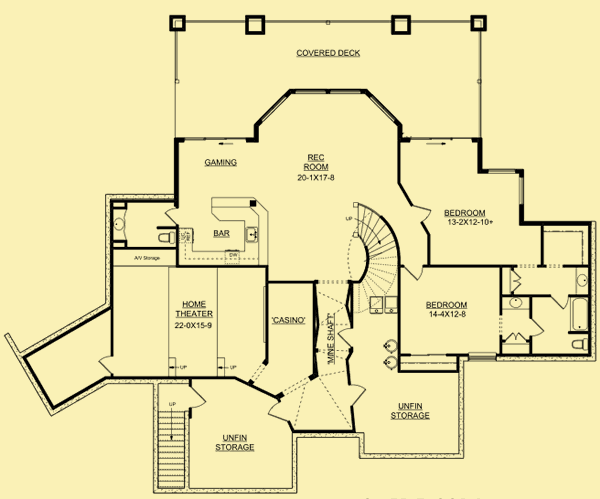door: (267, 402, 289, 424), (350, 379, 367, 406), (409, 204, 432, 223), (401, 265, 426, 281), (190, 386, 207, 408), (97, 353, 114, 374), (529, 317, 545, 339), (502, 332, 528, 344), (509, 270, 522, 292), (162, 206, 177, 225)
large_sink: (156, 228, 177, 245), (569, 336, 591, 351)
small_sink: (110, 206, 128, 240), (502, 294, 531, 310), (575, 266, 591, 294)
stairs: (345, 201, 398, 312), (152, 375, 192, 491)
tub: (570, 296, 591, 331)
windows: (294, 87, 364, 93), (486, 167, 517, 175), (519, 176, 525, 205)
